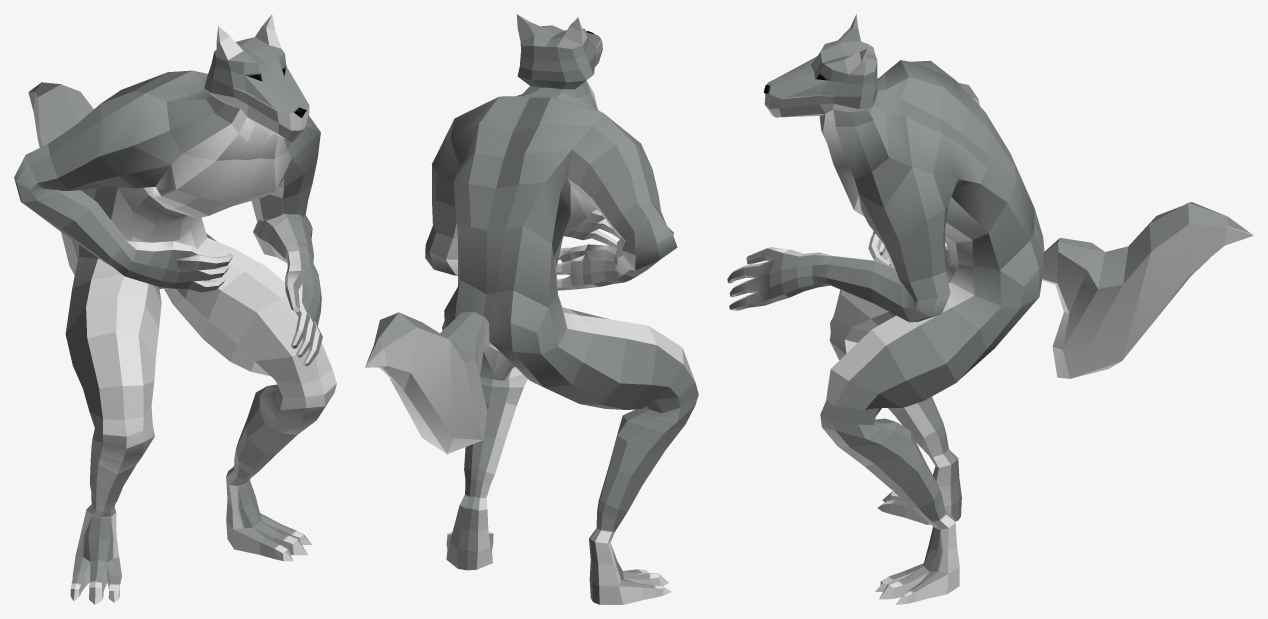
Rendered from WolfIdle_(82).obj.
The picture shows the model from 3 angles, left to right: view 1: azimuth 30°, elevation 25°; view 2: azimuth 150°, elevation 25°; view 3: azimuth 270°, elevation 25°; orthographic projection. The views are drawn at different scales.
Visible parts, largest first — view 1: Box001; view 2: Box001; view 3: Box001.
Part boxes in pixels (x1,y1,x2,y2): Box001: [14, 14, 336, 604]; Box001: [365, 14, 698, 604]; Box001: [727, 14, 1253, 604].
Size of the model in its own units: 66.97 by 131 by 116.
